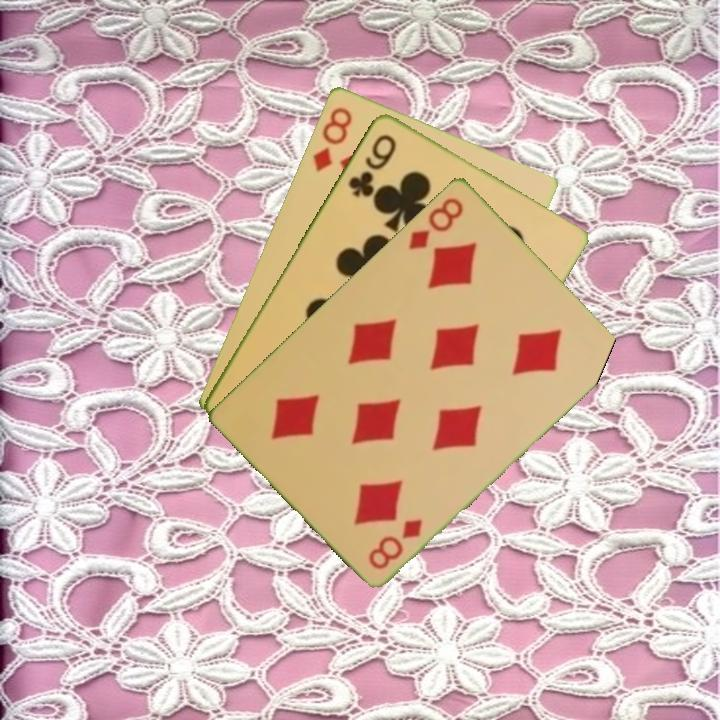8d: (405, 193, 467, 253), (365, 514, 425, 572), (309, 103, 355, 174)
9c: (344, 130, 399, 200)
